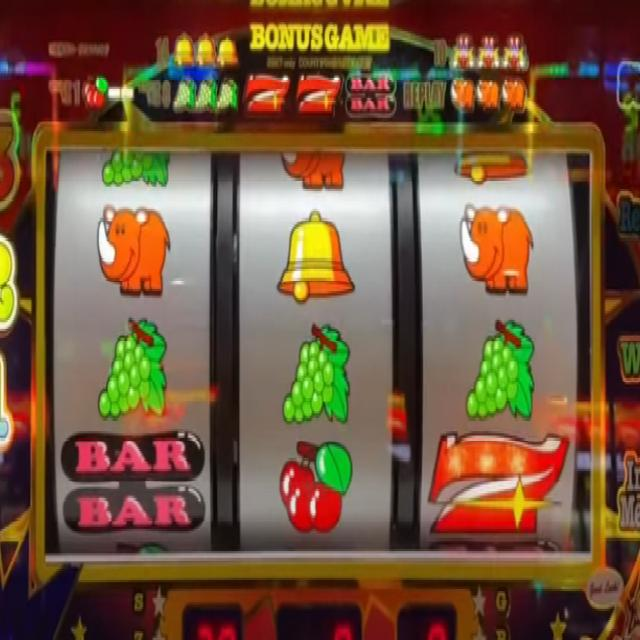bar: (61, 432, 205, 536), (344, 71, 396, 118)
bell: (277, 207, 354, 303), (172, 31, 196, 71), (194, 29, 216, 69), (216, 31, 237, 69)
cherry: (279, 440, 354, 534), (82, 74, 108, 110)
clown: (450, 29, 476, 74), (477, 32, 499, 74), (503, 34, 527, 71)
display: (42, 146, 596, 558)
elephant: (96, 201, 170, 300), (460, 203, 534, 296), (280, 150, 348, 190), (450, 75, 474, 113), (475, 78, 500, 112), (502, 78, 525, 111)
grape: (466, 316, 538, 422), (98, 318, 170, 417), (283, 326, 352, 428), (99, 148, 171, 190), (193, 79, 216, 114), (171, 74, 192, 109), (217, 80, 237, 113)
z: (428, 429, 569, 544), (296, 71, 342, 115), (245, 73, 290, 117)
